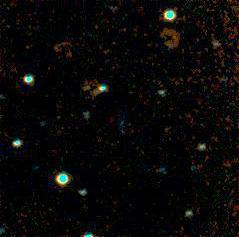star: (45, 104, 75, 134)
